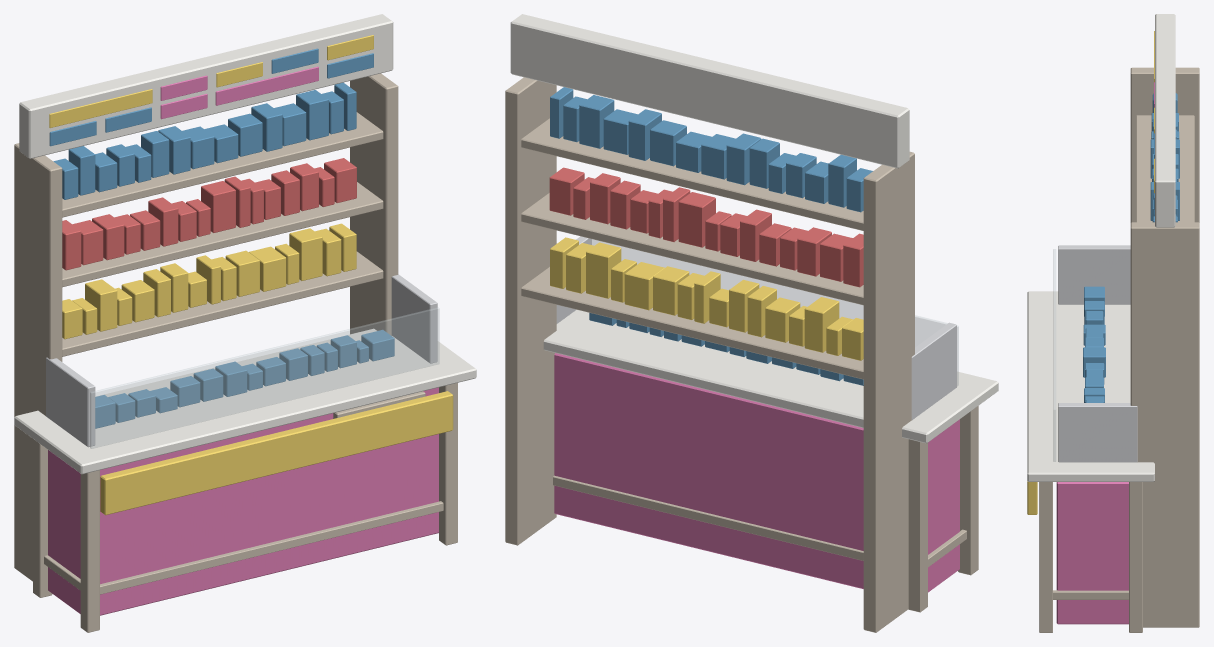
Rendered from amusement-arcade-and-seaside-pier-prize-counter-df2f266d__35413.glb.
The picture shows the model from 3 angles, left to right: view 1: azimuth 30°, elevation 25°; view 2: azimuth 150°, elevation 25°; view 3: azimuth 270°, elevation 25°; orthographic projection. The views are drawn at different scales.
Visible parts, largest first — view 1: prize-counter; view 2: prize-counter; view 3: prize-counter.
Part boxes in pixels (x1=…): prize-counter: x1=14, y1=14, x2=476, y2=632; prize-counter: x1=505, y1=14, x2=998, y2=632; prize-counter: x1=1027, y1=14, x2=1199, y2=632.
Bounding box in the file's own units: 2.5 × 2.88 × 1.
